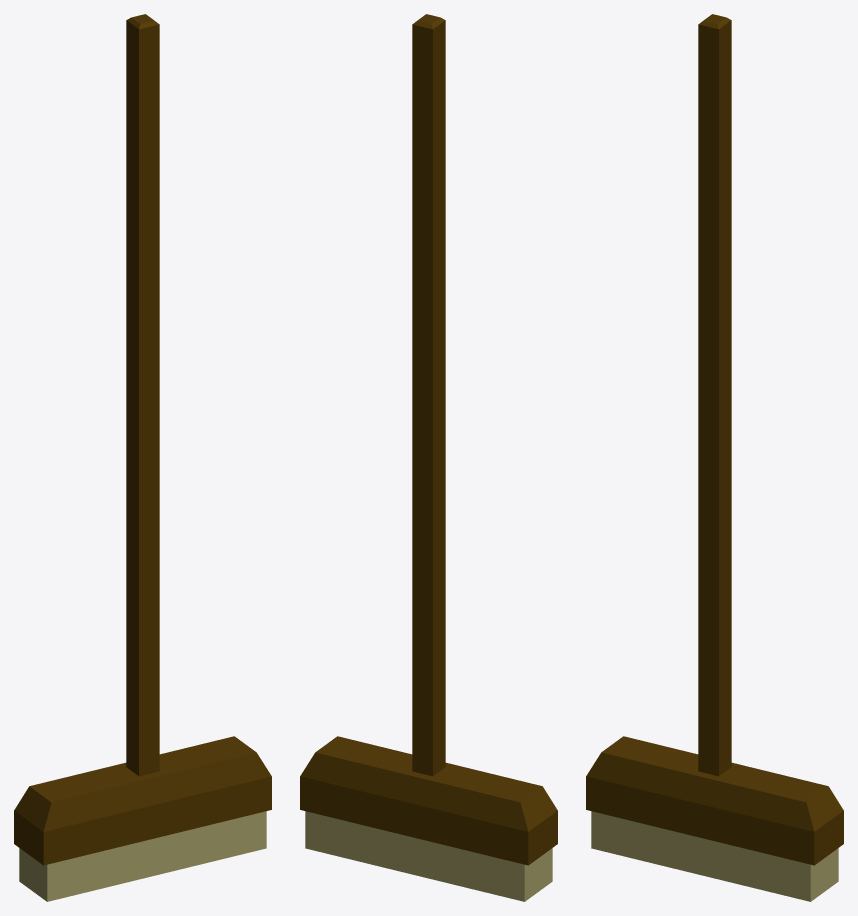
Rendered from Escoba.fbx.
3 views of the same model, side by side, from view 1: azimuth 30°, elevation 25°; view 2: azimuth 150°, elevation 25°; view 3: azimuth 330°, elevation 25° (orthographic).
Visible parts, largest first — view 1: Escoba; view 2: Escoba; view 3: Escoba.
Part boxes in pixels (left/top/right/bottom): Escoba: left=14, top=14, right=271, bottom=901; Escoba: left=300, top=14, right=557, bottom=901; Escoba: left=586, top=14, right=843, bottom=901.
Bounding box in the file's own units: 0.438 × 1.55 × 0.0977.
